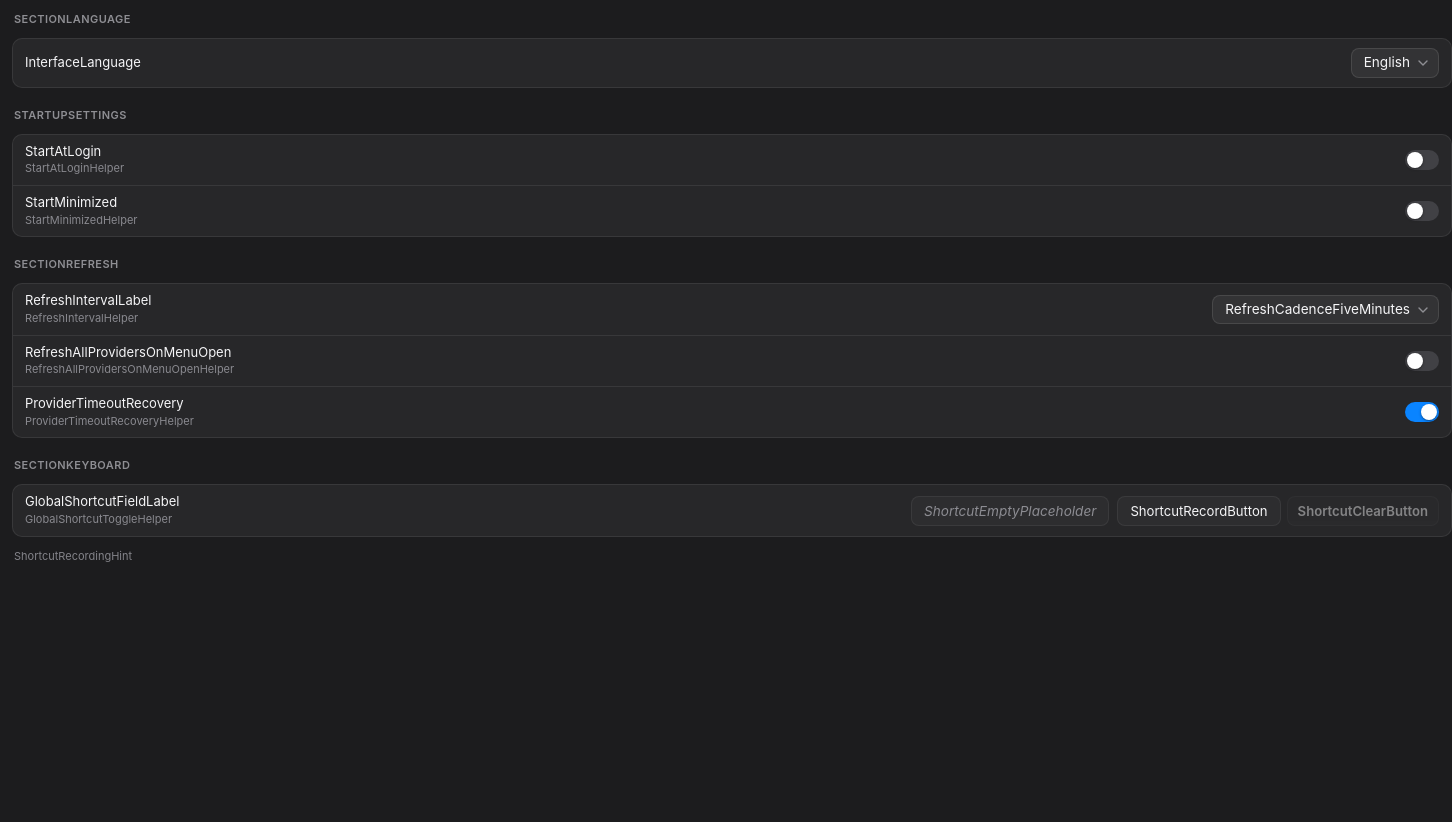
GeneralTab language picker › renders 6 language options when Traditional Chinese is wired
Step 1. Click the button "English" → x=1395, y=63, box [1351,48,1439,78]
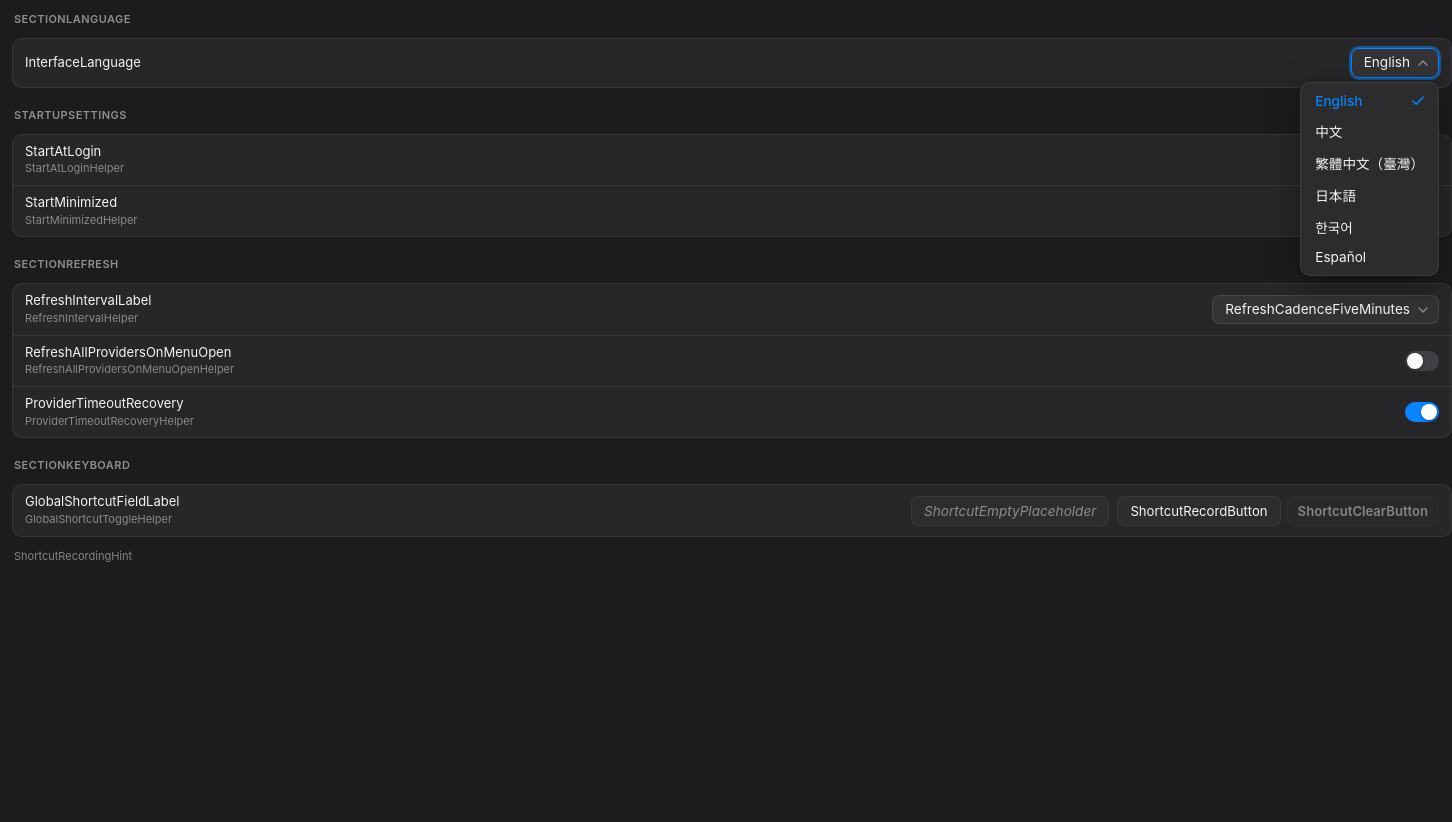
Expected: the number of options is 6, [1305,87,1434,115]; [1305,115,1434,147]; [1305,147,1434,179]; [1305,179,1434,211]; [1305,211,1434,243]; [1305,243,1434,271]
